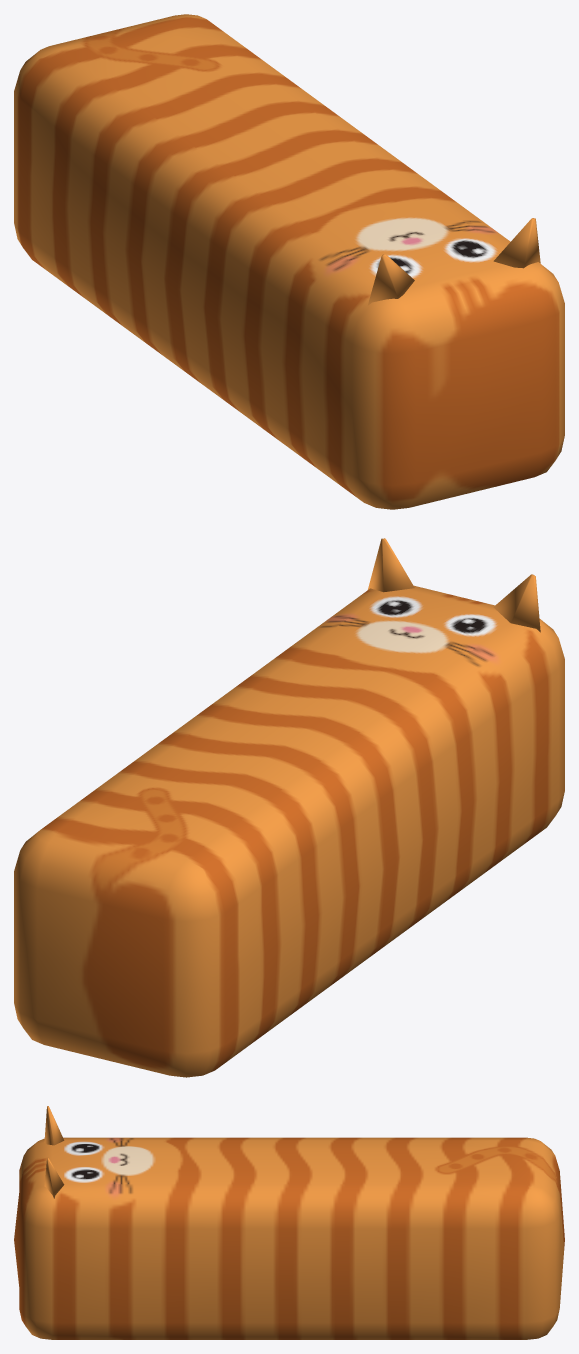
File: Cat_3x1.fbx
3 views of the same model, one above another, from view 1: azimuth 30°, elevation 25°; view 2: azimuth 150°, elevation 25°; view 3: azimuth 270°, elevation 25° (orthographic). The views are drawn at different scales.
Visible parts, largest first — view 1: Cat_3x1; view 2: Cat_3x1; view 3: Cat_3x1.
Part boxes in pixels (bbox=[...]): Cat_3x1: bbox=[14, 14, 564, 509]; Cat_3x1: bbox=[14, 538, 564, 1077]; Cat_3x1: bbox=[14, 1106, 564, 1339].
Size of the model in its own units: 0.976 by 1.05 by 2.98.
1 material, 1 textured.
